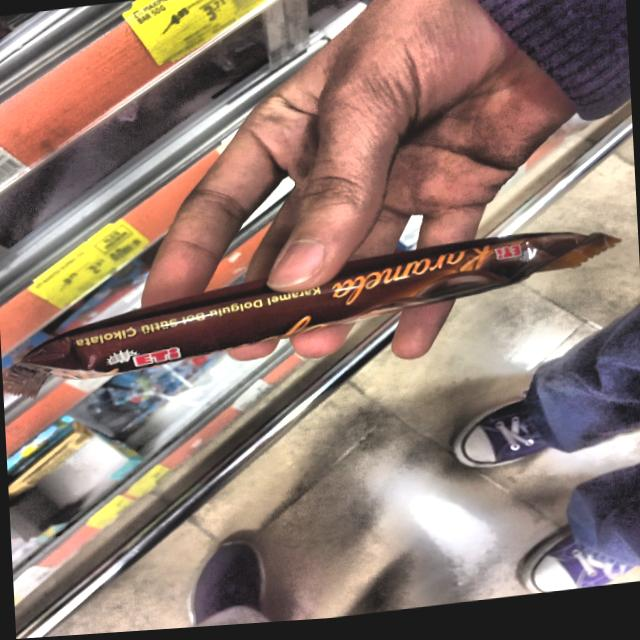Plastic: (2, 233, 618, 401)
